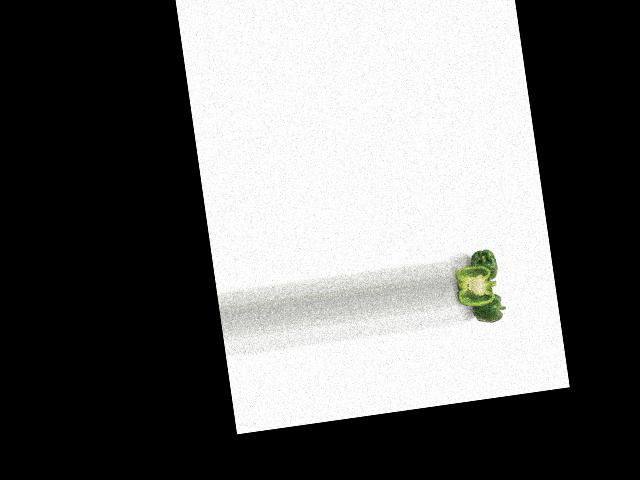bell_pepper: (464, 245, 502, 285)
